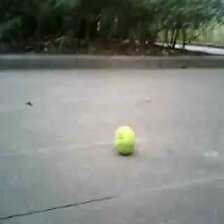tennis: (115, 126, 136, 152)
